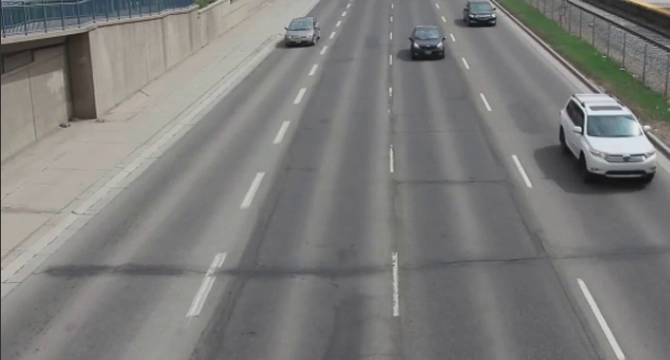car: (555, 91, 663, 194), (407, 19, 450, 62), (283, 13, 323, 49), (461, 1, 499, 29)
